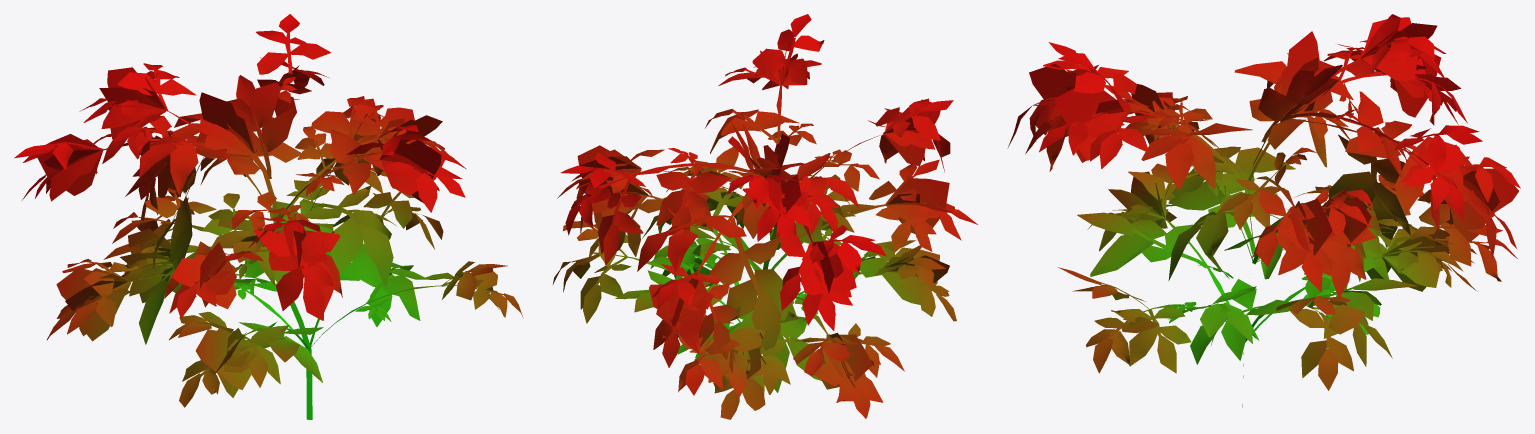
Rendered from Var6_LOD2.fbx.
3 renders of one model, left to right at view 1: azimuth 30°, elevation 25°; view 2: azimuth 150°, elevation 25°; view 3: azimuth 270°, elevation 25°, orthographic. The views are drawn at different scales.
Visible parts, largest first — view 1: _9679_Var6_LOD2; view 2: _9679_Var6_LOD2; view 3: _9679_Var6_LOD2.
Part boxes in pixels (x1=…): _9679_Var6_LOD2: x1=14, y1=14, x2=523, y2=419; _9679_Var6_LOD2: x1=552, y1=14, x2=977, y2=419; _9679_Var6_LOD2: x1=1007, y1=14, x2=1520, y2=407.
Size of the model in its own units: 86.45 by 72.79 by 90.96.
